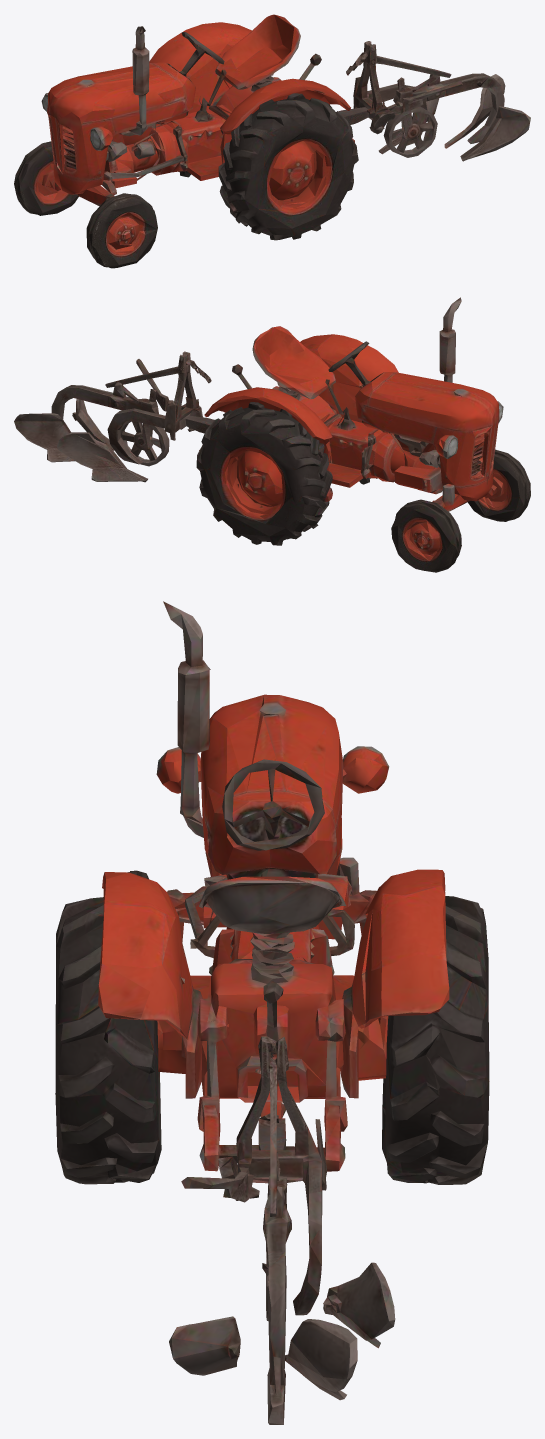
The model's file is tractor.glb.
3 views of the same model, one above another, from view 1: azimuth 30°, elevation 25°; view 2: azimuth 150°, elevation 25°; view 3: azimuth 270°, elevation 25° (orthographic). The views are drawn at different scales.
Visible parts, largest first — view 1: output_unwrapped; view 2: output_unwrapped; view 3: output_unwrapped.
Part boxes in pixels (<box>): output_unwrapped: <box>14,14,530,268</box>; output_unwrapped: <box>14,297,530,572</box>; output_unwrapped: <box>55,601,489,1424</box>.
Bounding box in the file's own units: 3.67 × 1.7 × 1.5.
1 material, 1 textured.
